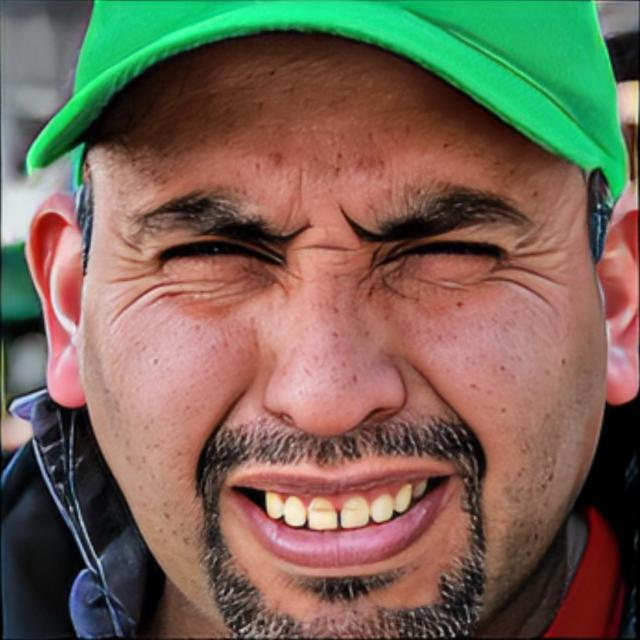disgust: (81, 23, 608, 640)
